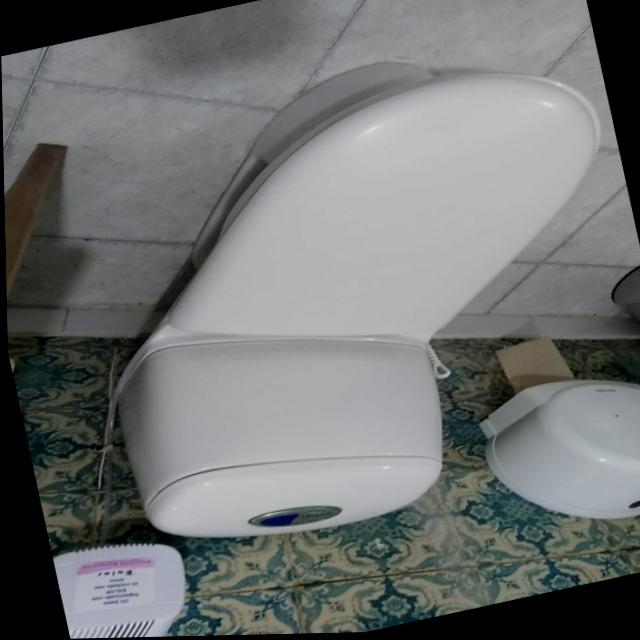toilet: (50, 21, 640, 571)
